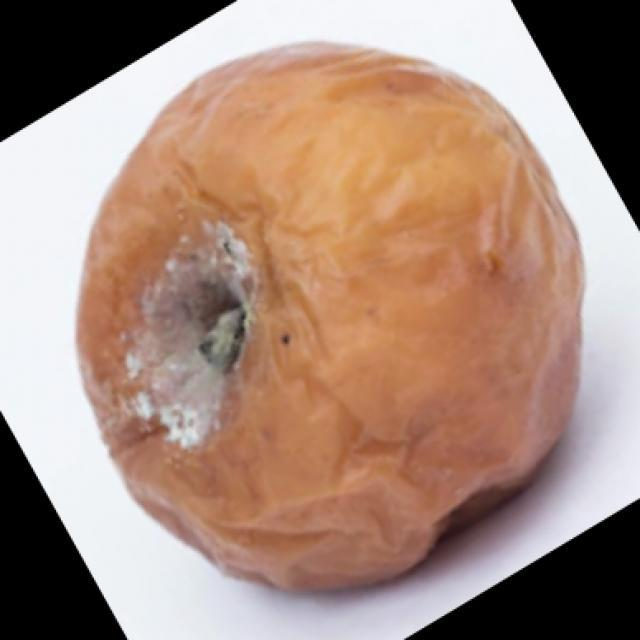Rotten: (89, 55, 584, 595)
